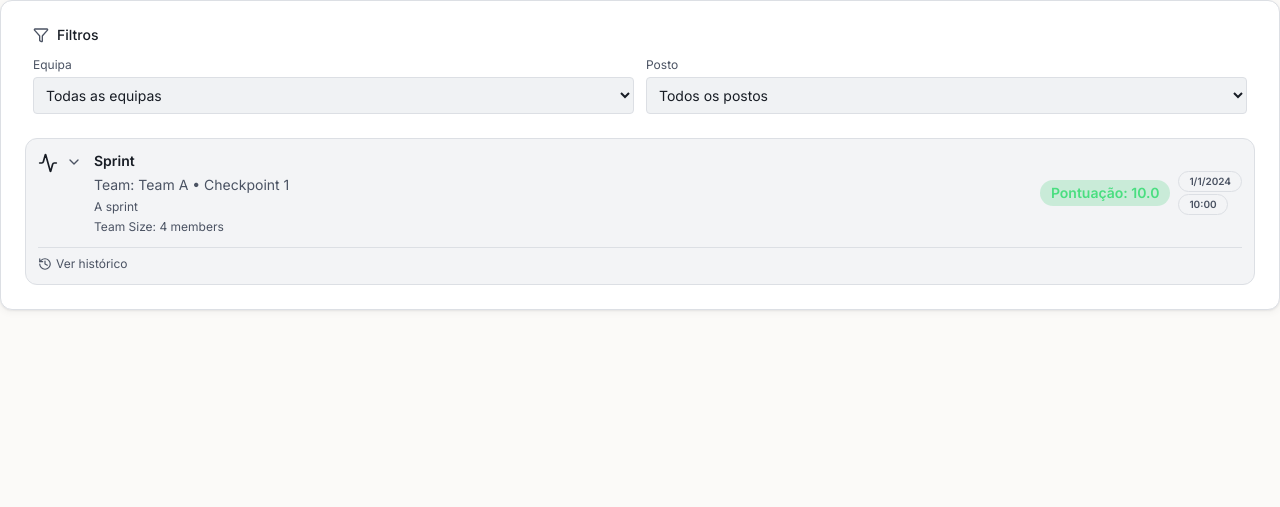
Test: AllEvaluations › expands details and shows result badges, penalties, and modifiers
Click the button "Sprint".
click(114, 160)  # box [38,151,1028,235]
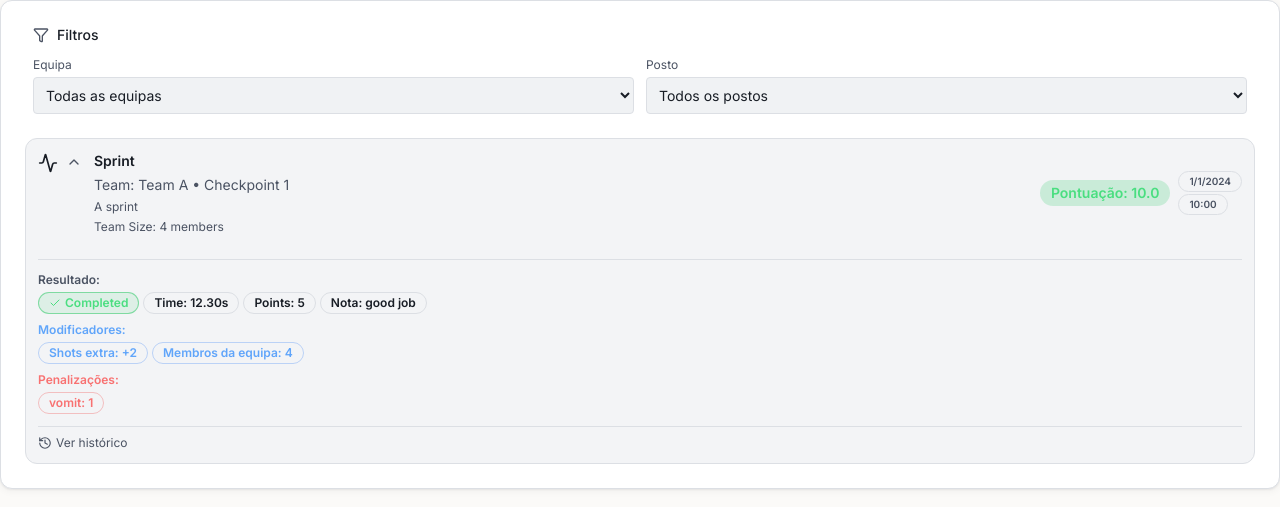
Now the text "Completed" is shown, box [38,292,139,314]
Now the text "Time: 12.30s" is shown, box [143,292,239,314]
Now the text "Points: 5" is shown, box [243,292,316,314]
